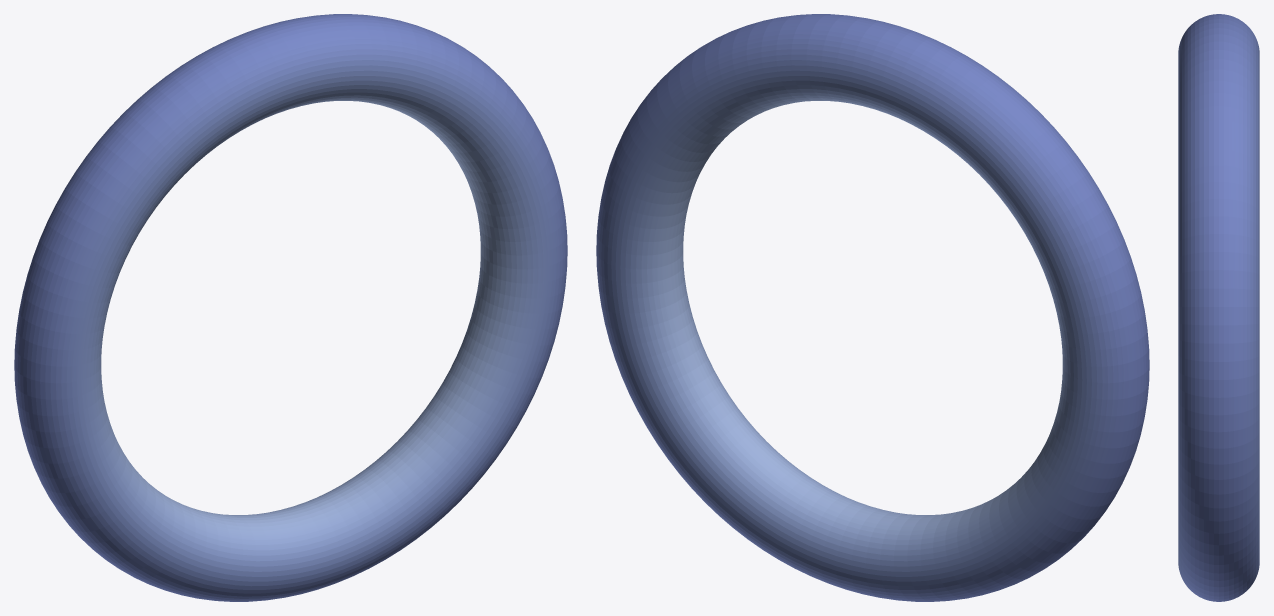
3 renders of one model, left to right at view 1: azimuth 30°, elevation 25°; view 2: azimuth 150°, elevation 25°; view 3: azimuth 270°, elevation 25°, orthographic. The views are drawn at different scales.
Parts seen in each view (by area): view 1: world; view 2: world; view 3: world.
Part boxes in pixels (left/top/right/bottom): world: left=14, top=14, right=567, bottom=601; world: left=596, top=14, right=1149, bottom=601; world: left=1178, top=14, right=1259, bottom=601.
Bounding box in the file's own units: 24 × 24 × 3.33.
